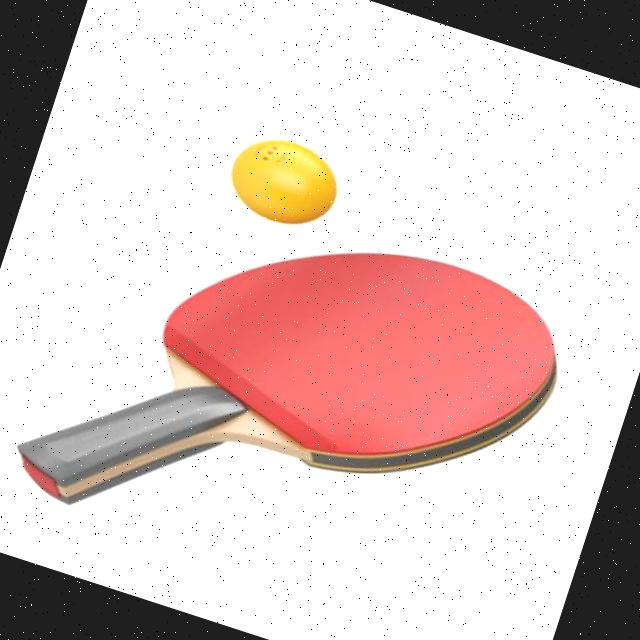ping-pong-ball: (220, 126, 348, 236)
